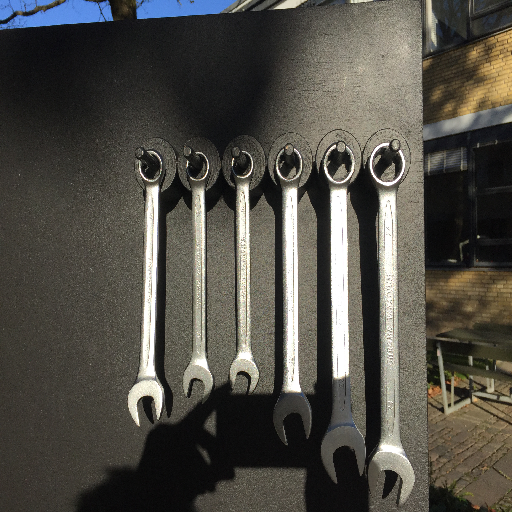bottom: (363, 442, 416, 508), (319, 422, 367, 484), (271, 389, 314, 447), (126, 375, 165, 426), (181, 358, 215, 406), (227, 352, 260, 398)
top: (367, 140, 406, 190), (321, 142, 356, 187), (273, 144, 305, 187), (135, 147, 168, 186), (185, 149, 214, 185), (230, 149, 257, 182)
